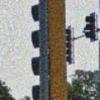traffic lights: (85, 12, 96, 42)
